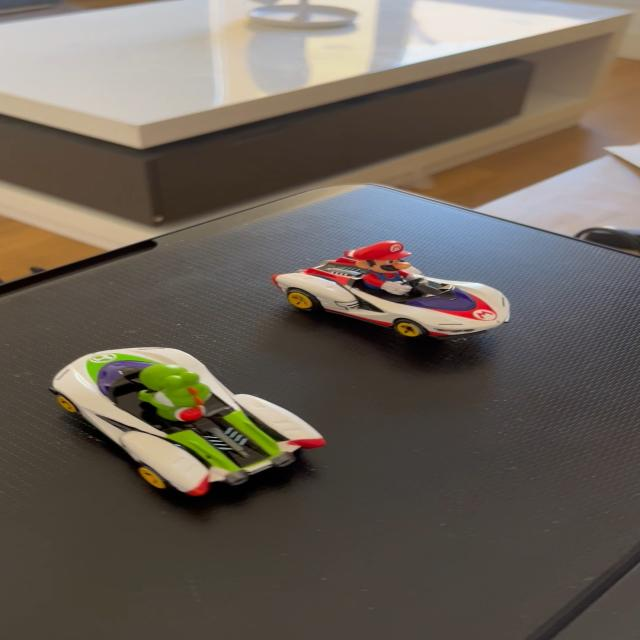mario: (265, 236, 534, 340)
yoshi: (40, 339, 338, 509)
